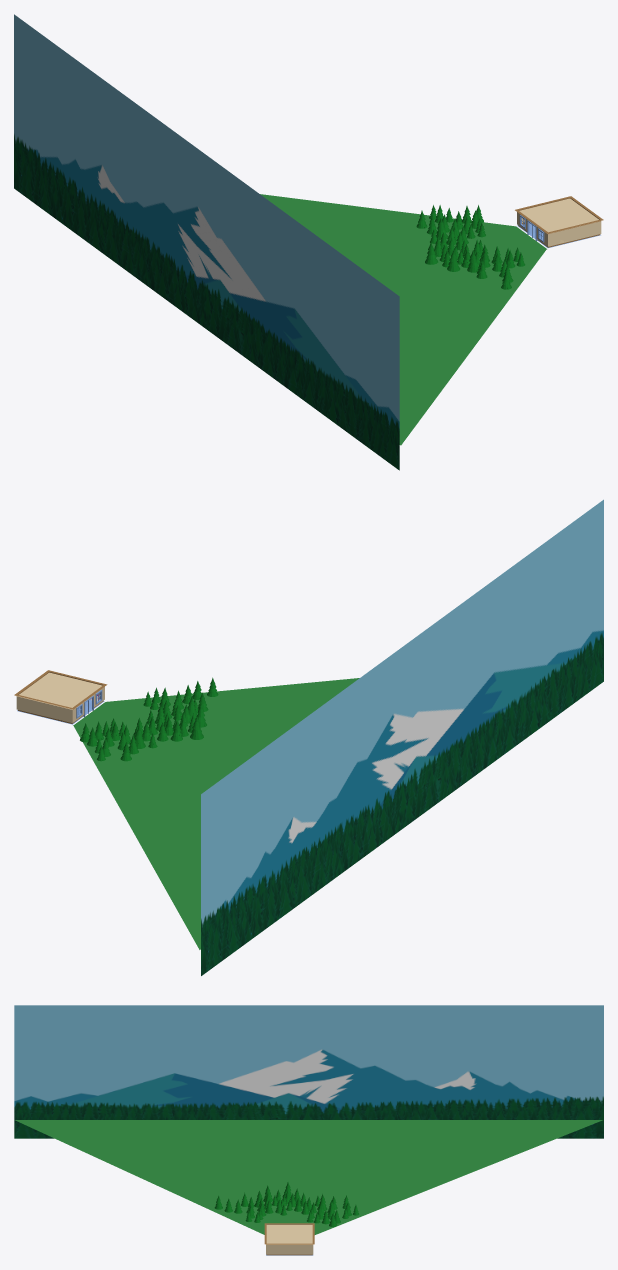
The model's file is decor.glb.
3 renders of one model, top to bottom at view 1: azimuth 30°, elevation 25°; view 2: azimuth 150°, elevation 25°; view 3: azimuth 270°, elevation 25°, orthographic. The views are drawn at different scales.
Visible parts, largest first — view 1: SceneBackground, Grass, Forest, House, Roof; view 2: SceneBackground, Grass, Forest, House, Roof; view 3: SceneBackground, Grass, Forest, Roof, House.
Boxes of the visible parts, x1,y1,x2,y2 form: SceneBackground: (14, 14, 399, 470); Grass: (260, 194, 546, 445); Forest: (416, 205, 525, 289); House: (515, 196, 603, 247); Roof: (519, 198, 598, 232); SceneBackground: (201, 499, 603, 975); Grass: (73, 678, 359, 949); Forest: (80, 677, 218, 761); House: (14, 670, 107, 724); Roof: (15, 672, 102, 709); SceneBackground: (14, 1005, 603, 1138); Grass: (15, 1120, 602, 1234); Forest: (214, 1182, 359, 1227); Roof: (266, 1224, 313, 1244); House: (264, 1223, 314, 1255).
Size of the model in its own units: 2752 by 1245 by 5000.
Materials: 45 (3 with a texture image).
